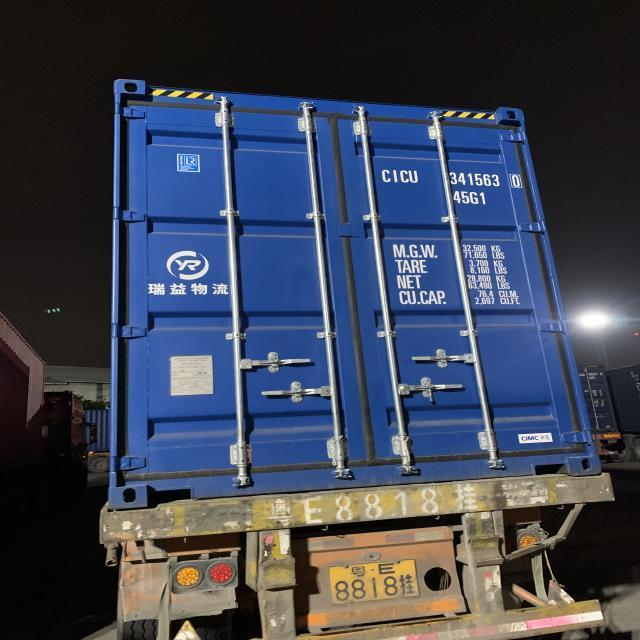ISO: (455, 189, 489, 207)
container_number: (386, 171, 524, 189)
